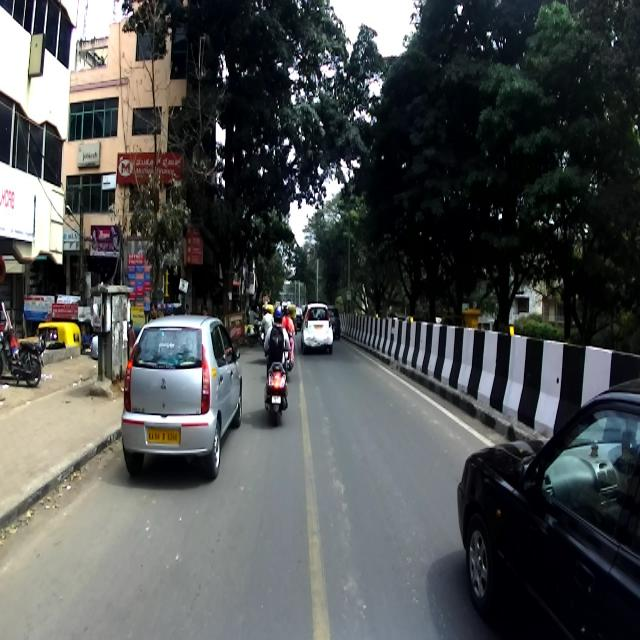car: (456, 375, 640, 638), (121, 313, 242, 479), (300, 302, 334, 356)
motorcycle: (0, 320, 46, 388)
scooter: (264, 346, 291, 426)
